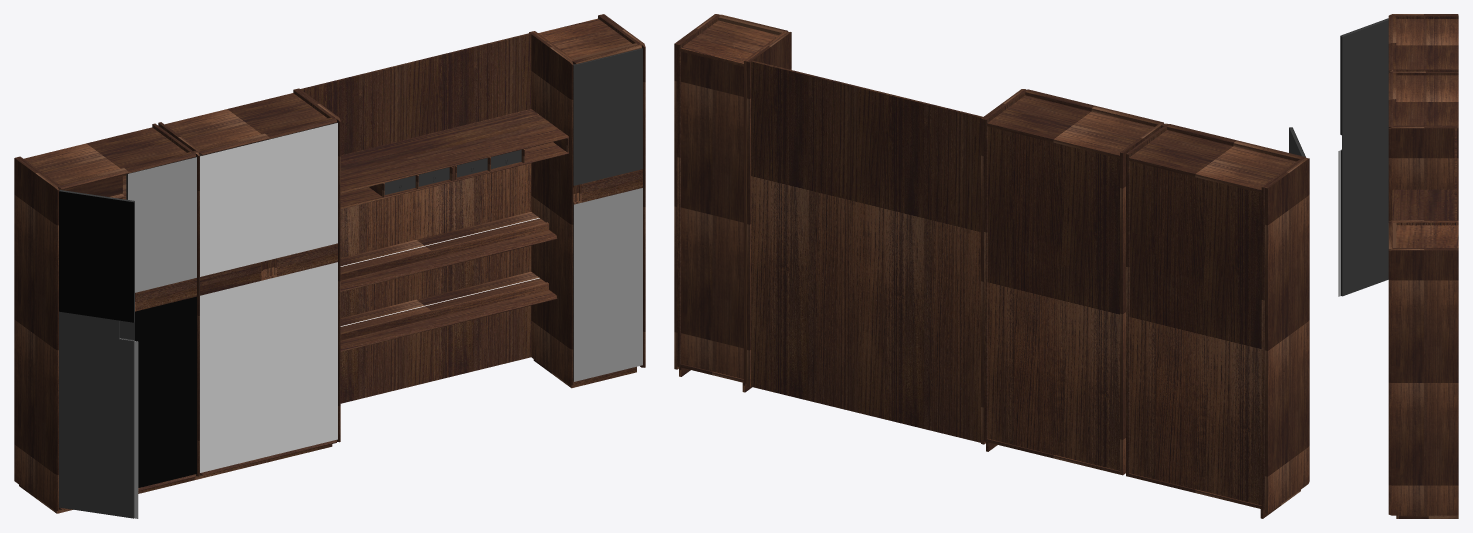
The model's file is Cupboard1_draco.glb.
The picture shows the model from 3 angles, left to right: view 1: azimuth 30°, elevation 25°; view 2: azimuth 150°, elevation 25°; view 3: azimuth 270°, elevation 25°; orthographic projection. The views are drawn at different scales.
Parts seen in each view (by area): view 1: My Closet By Porada.002, Cube.043, Cube.095, perfils 2.002, Cube.089, Cube.101, Cube.103, Obj_000021.003, Cube.093, Cube.097, Cube.104, Cube.088 (+24 smaller); view 2: Obj_000111.004, Obj_000111.002, My Closet By Porada.002, Cube.043, Cube.083, perfils 2.002, Obj_000114.002, Obj_000114.004, Cube.086, Obj_000021.003, Obj_000112.005, Cube.085 (+8 smaller); view 3: perfils 3.002, Cube.095, Obj_000021.002, Obj_000114.002, Obj_000114.004, cube 230.004, Cube.086, Obj_000154.003, Obj_000154.004, Cube.096, Cube.045, Obj_000112.005 (+4 smaller).
Boxes of the visible parts, x1,y1,x2,y2 form: My Closet By Porada.002: (415,33,531,385); Cube.043: (300,61,416,403); Cube.095: (59,190,134,518); perfils 2.002: (14,157,58,510); Cube.089: (574,188,642,381); Cube.101: (269,262,337,456); Cube.103: (200,279,268,472); Obj_000021.003: (529,31,573,385); Cube.093: (135,296,196,487); Cube.097: (59,191,133,322); Cube.104: (200,140,268,276); Cube.088: (574,48,642,185); Obj_000111.004: (987,126,1119,470); Obj_000111.002: (1129,161,1261,505); My Closet By Porada.002: (751,60,867,414); Cube.043: (866,88,982,442); Cube.083: (681,52,743,378); perfils 2.002: (1265,158,1309,513); Obj_000114.002: (1129,130,1296,193); Obj_000114.004: (987,95,1154,158); Cube.086: (680,20,778,66); Obj_000021.003: (747,31,791,387); Obj_000112.005: (1120,123,1162,475); Cube.085: (677,15,719,367); perfils 3.002: (1388,249,1458,515); Cube.095: (1340,18,1388,296); Obj_000021.002: (1388,127,1458,221); Obj_000114.002: (1396,19,1458,69); Obj_000114.004: (1396,75,1458,125); cube 230.004: (1392,189,1454,220); Cube.086: (1396,225,1458,247); Obj_000154.003: (1388,15,1396,71); Obj_000154.004: (1388,71,1396,128); Cube.096: (1338,150,1340,296); Cube.045: (1393,221,1458,225); Obj_000112.005: (1393,71,1458,75).
Bounding box in the file's own units: 27.07 × 14.45 × 5.83.
7 materials, 1 textured.
